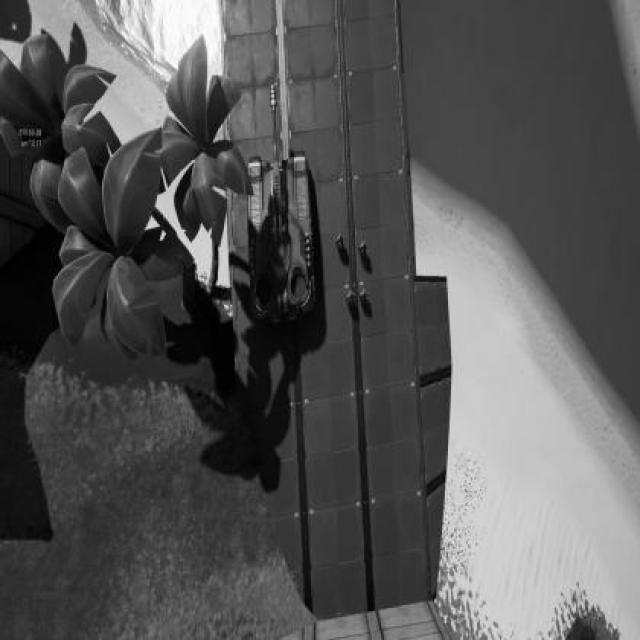tank: (247, 85, 317, 332)
